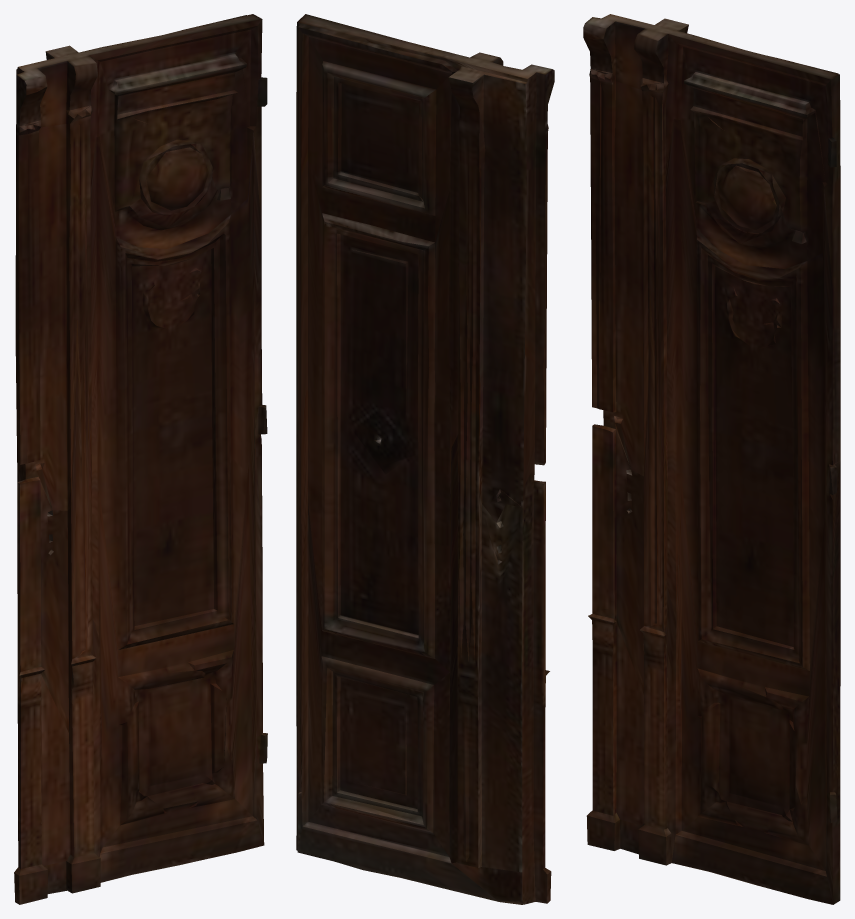
Rendered from door-set-tall.lod1.glb.
3 views of the same model, side by side, from view 1: azimuth 30°, elevation 25°; view 2: azimuth 150°, elevation 25°; view 3: azimuth 330°, elevation 25° (orthographic).
Visible parts, largest first — view 1: door-set-tall; view 2: door-set-tall; view 3: door-set-tall.
Boxes of the visible parts, left/top/right/bottom form: door-set-tall: left=14, top=14, right=267, bottom=904; door-set-tall: left=296, top=14, right=554, bottom=904; door-set-tall: left=583, top=14, right=840, bottom=904.
Size of the model in its own units: 1.2 by 3.82 by 0.2644.
Materials: 1 (1 with a texture image).
